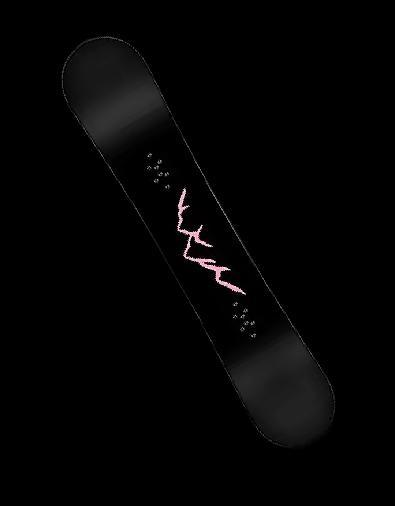Snowboard: (60, 34, 336, 449)
